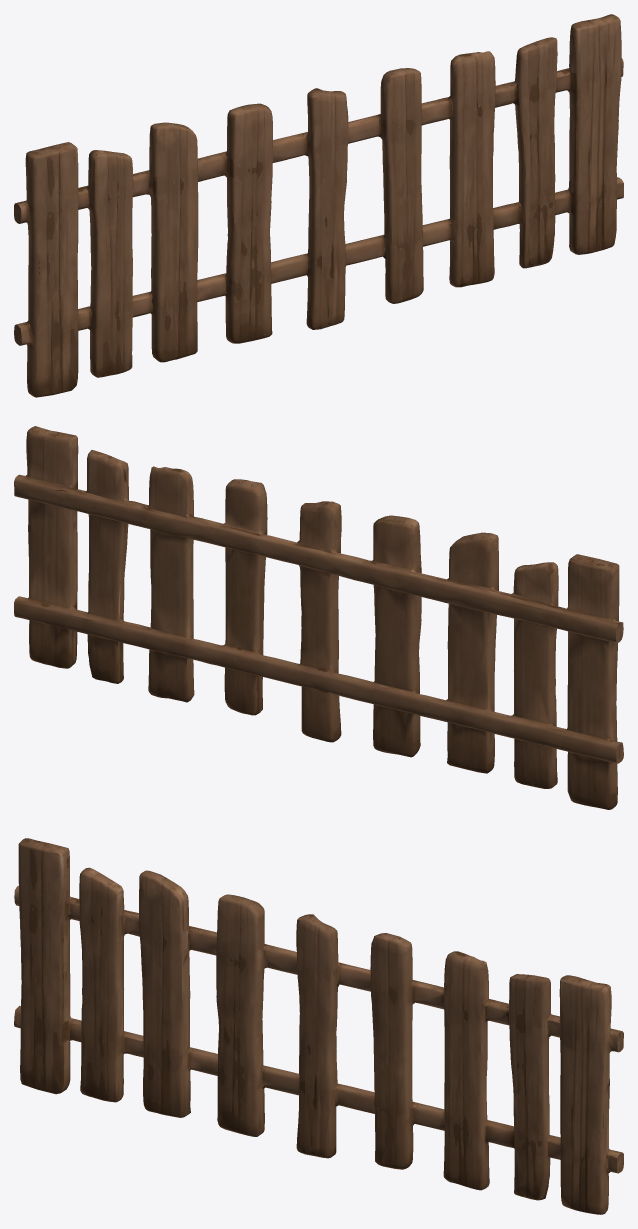
File: FencePicket.glb
3 views of the same model, one above another, from view 1: azimuth 30°, elevation 25°; view 2: azimuth 150°, elevation 25°; view 3: azimuth 330°, elevation 25° (orthographic).
Visible parts, largest first — view 1: FencePicket; view 2: FencePicket; view 3: FencePicket.
Boxes of the visible parts, bbox=[...] form: FencePicket: bbox=[14, 14, 623, 397]; FencePicket: bbox=[14, 426, 623, 809]; FencePicket: bbox=[14, 838, 623, 1214].
Bounding box in the file's own units: 2.95 × 1.14 × 0.1124.
1 material, 1 textured.
